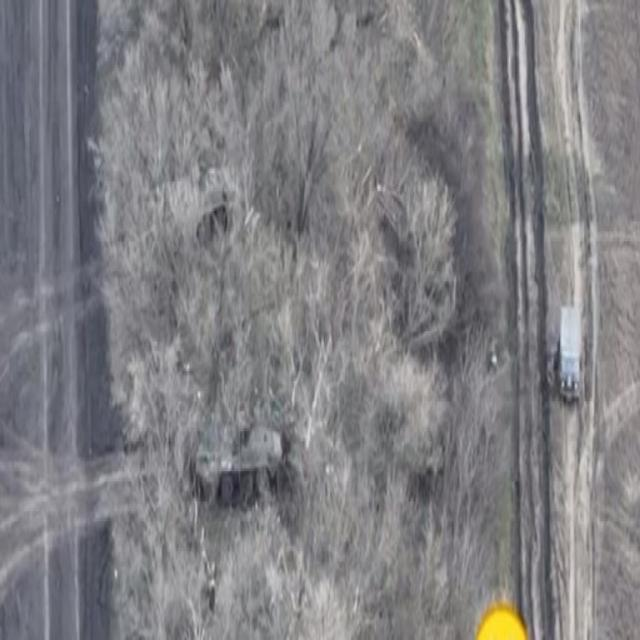APC-IFV: (142, 151, 246, 251), (186, 404, 289, 502)
CAR: (554, 284, 584, 402)
